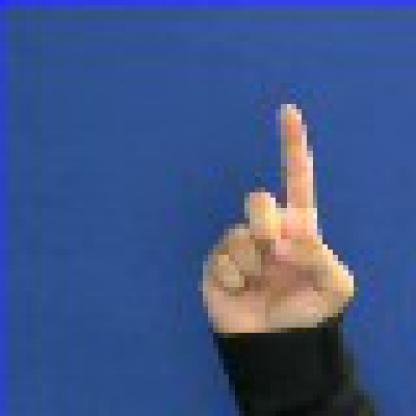one: (178, 91, 376, 352)
